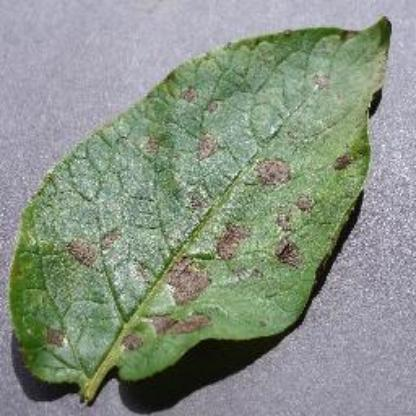Early-Blight: (8, 14, 416, 406)
